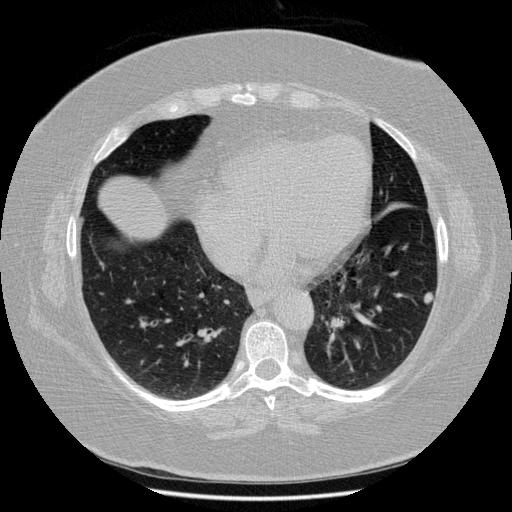nodule: (421, 290, 436, 305)
